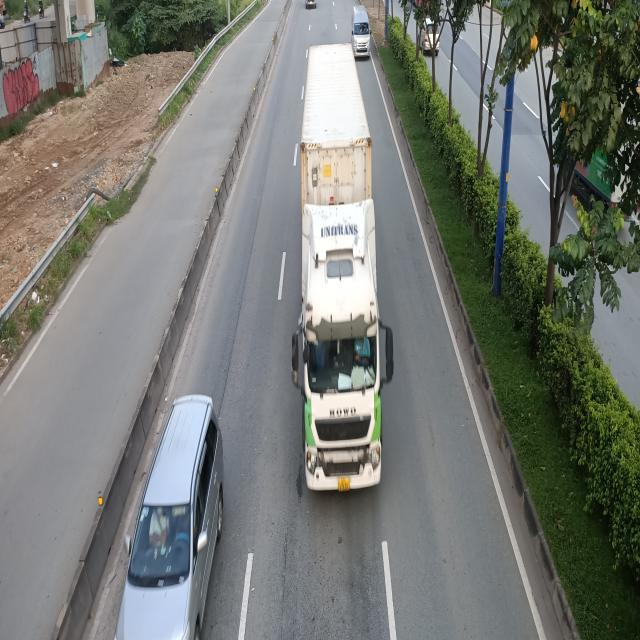car: (104, 394, 226, 640)
container: (289, 42, 392, 490)
van: (351, 5, 371, 58)
